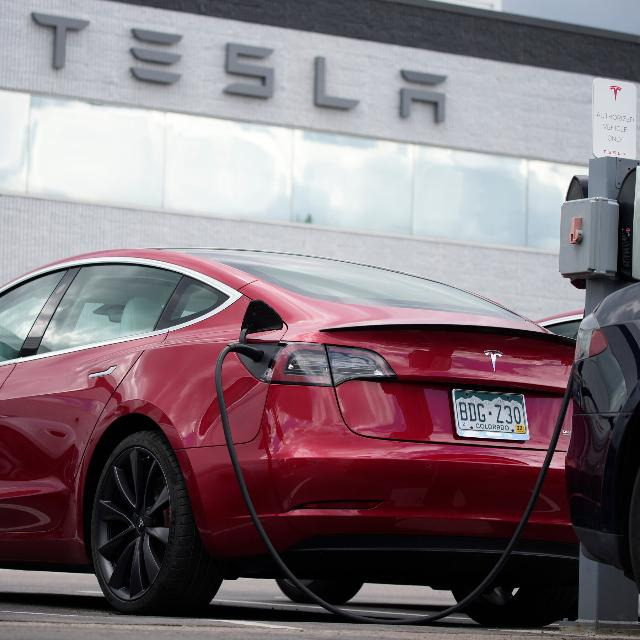tesla: (0, 246, 580, 628)
